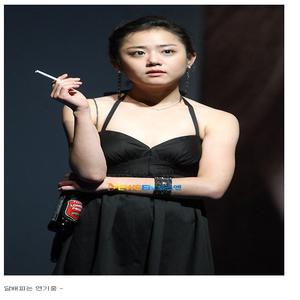cigarette: (34, 68, 57, 80)
